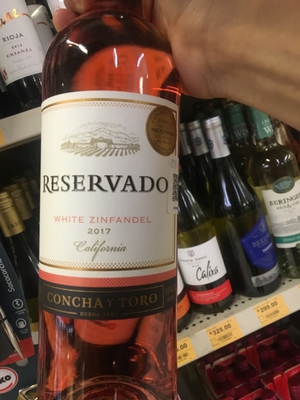reservado white zinfandel: (26, 1, 206, 395)
